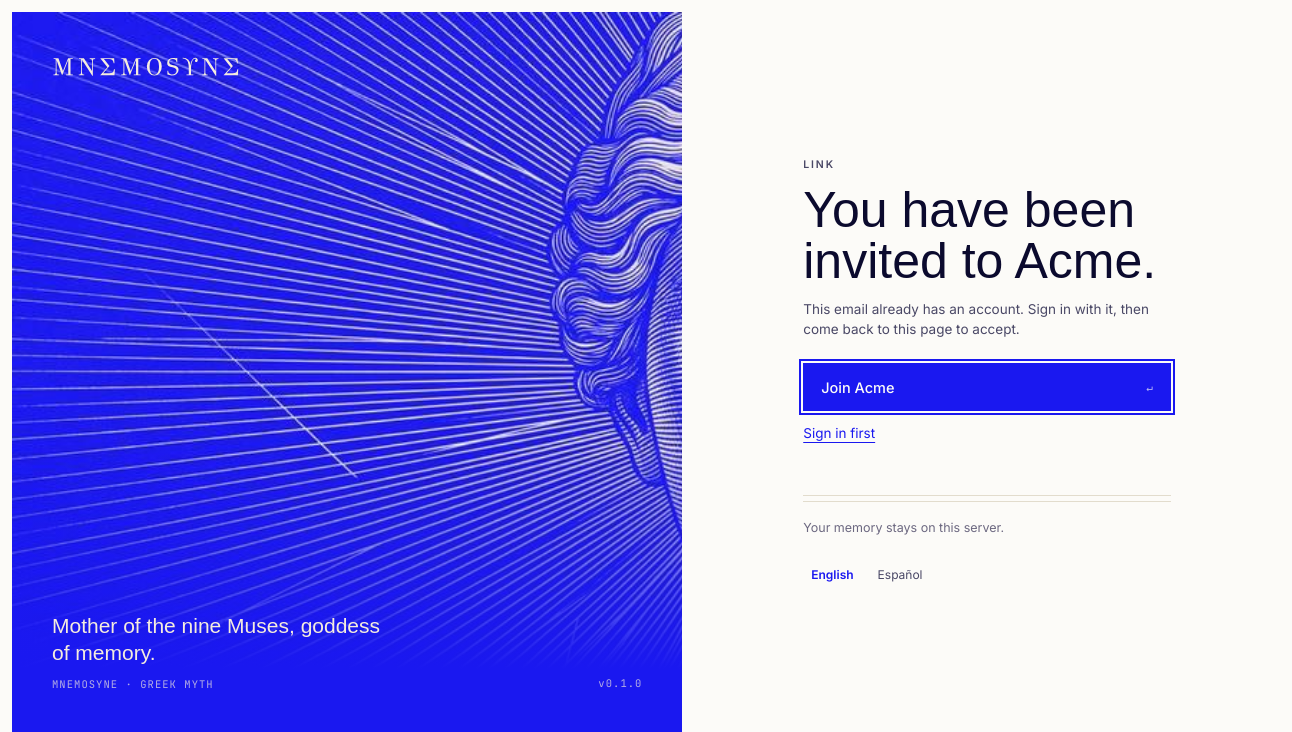
Test: link page › invitation for an existing account: accept, and a 401 asks to sign in with the invited email
The width and height of the screenshot is (1292, 732).
Click the button "Join Acme ↵" at coordinates (858, 387), box [803,364,1171,412]
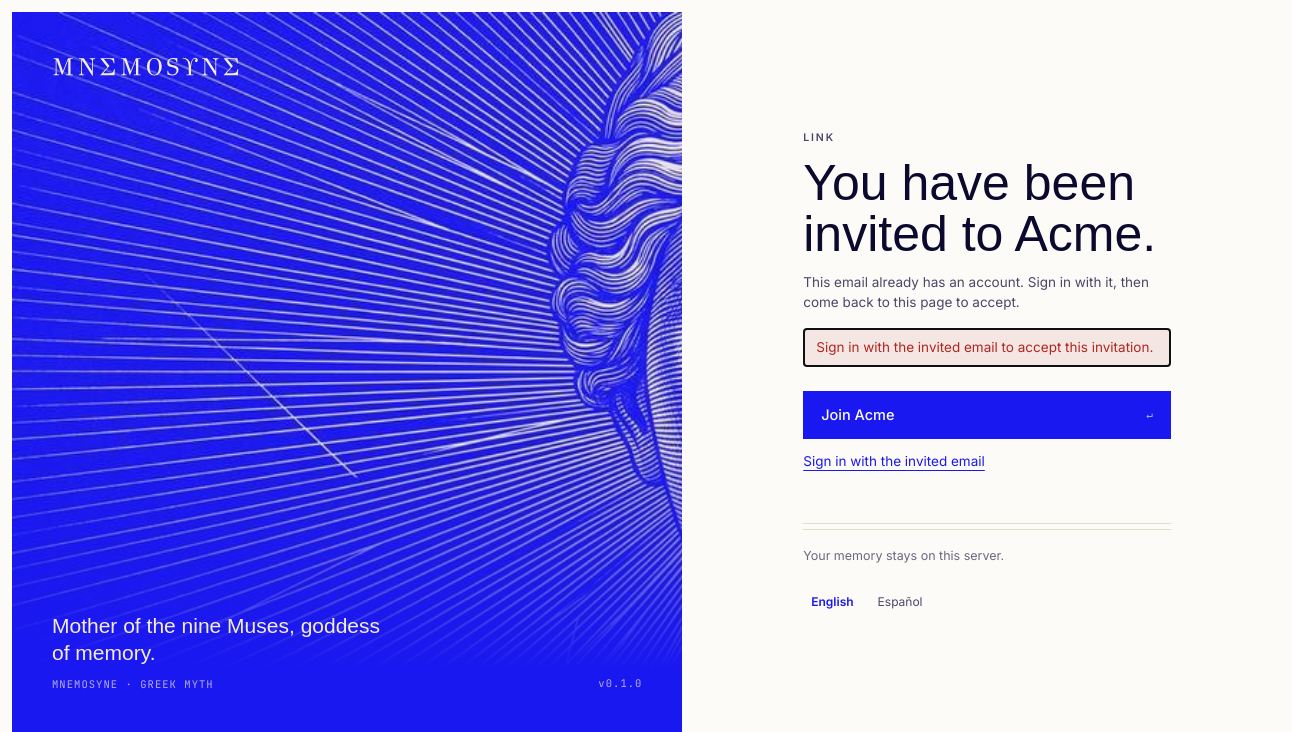
Expected: the form is shown, [803,272,1171,495]
Result: the message reads "Sign in with the invited email to accept this invitation." at [816,339,1153,355]
